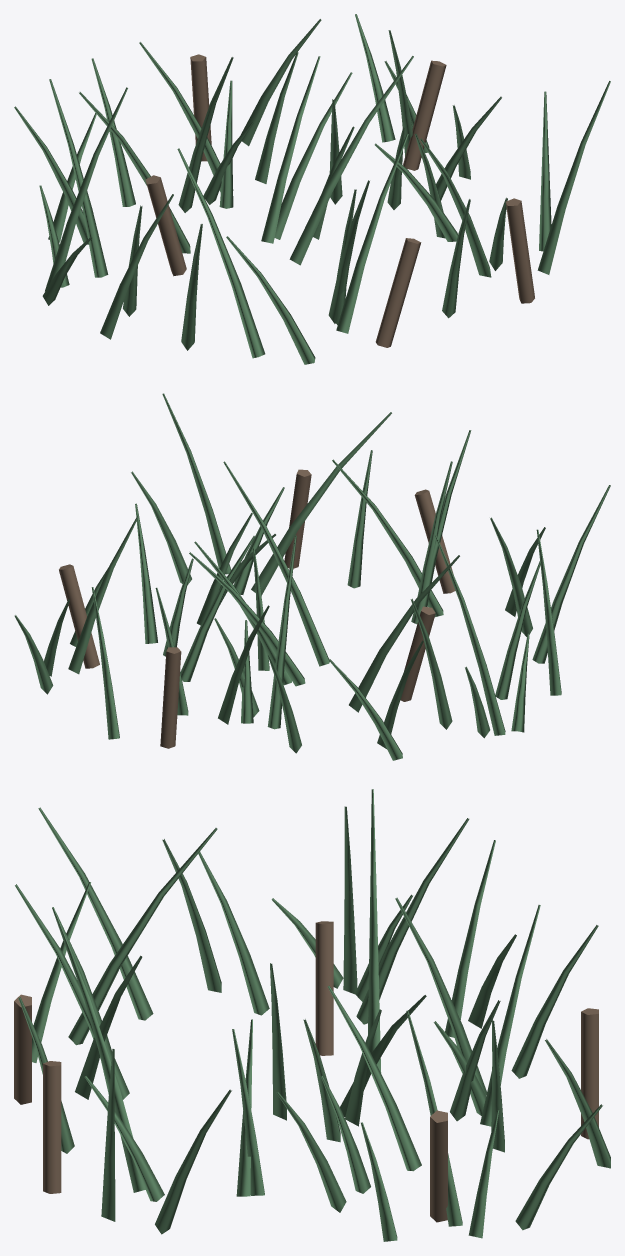
File: forest_undergrowth.glb
3 renders of one model, top to bottom at view 1: azimuth 30°, elevation 25°; view 2: azimuth 150°, elevation 25°; view 3: azimuth 270°, elevation 25°, orthographic. The views are drawn at different scales.
Visible parts, largest first — view 1: undergrowth-clump; view 2: undergrowth-clump; view 3: undergrowth-clump.
Boxes of the visible parts, left/top/right/bottom form: undergrowth-clump: left=14, top=14, right=610, bottom=364; undergrowth-clump: left=14, top=393, right=610, bottom=760; undergrowth-clump: left=14, top=789, right=610, bottom=1241.
Size of the model in its own units: 1.94 by 0.7622 by 1.79.
